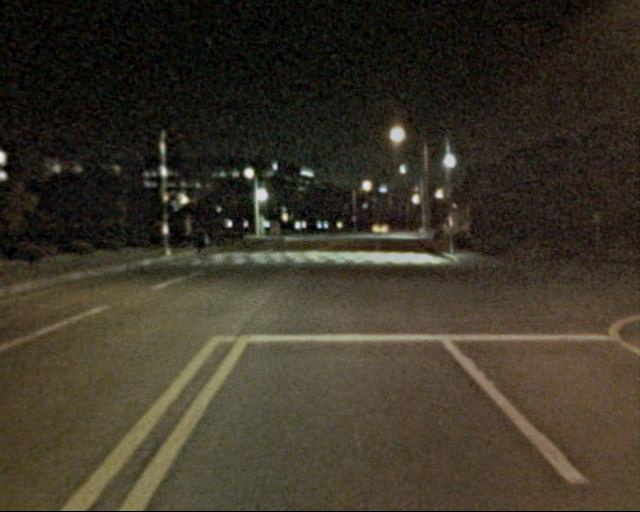person: (191, 221, 210, 267)
